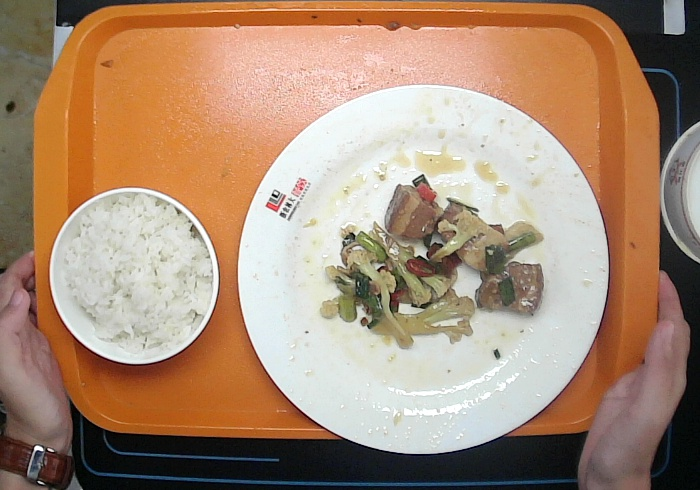ZNLD-Da_Yuan_Pan: (234, 83, 611, 454)
ZNLD-Fan_Wan: (49, 189, 223, 367)
